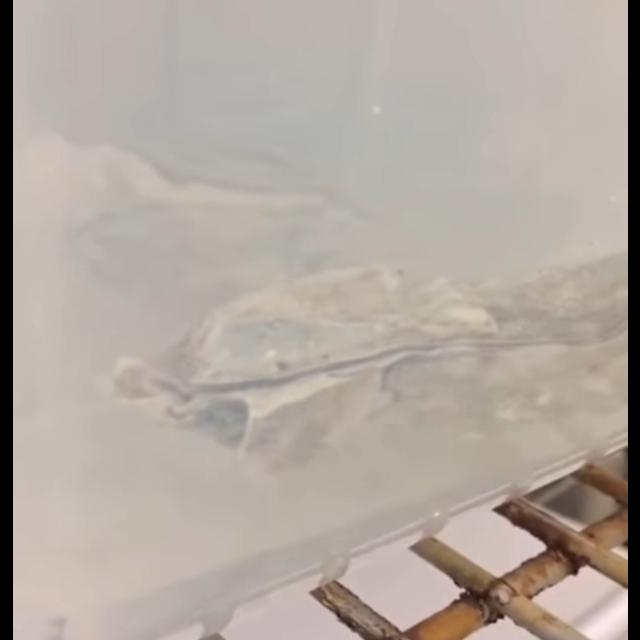Oyster-Closed: (108, 251, 628, 473), (50, 125, 354, 241)
